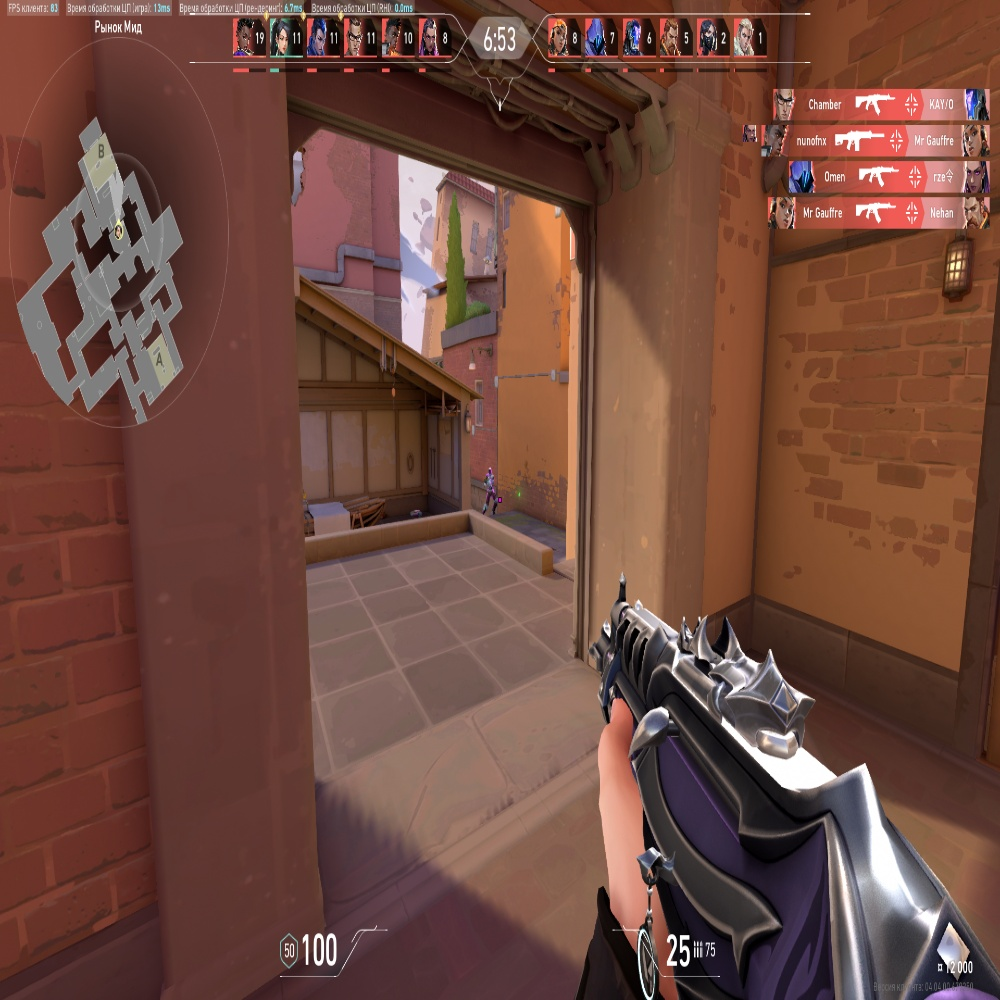body: (485, 476, 495, 493)
head: (487, 469, 493, 475)
